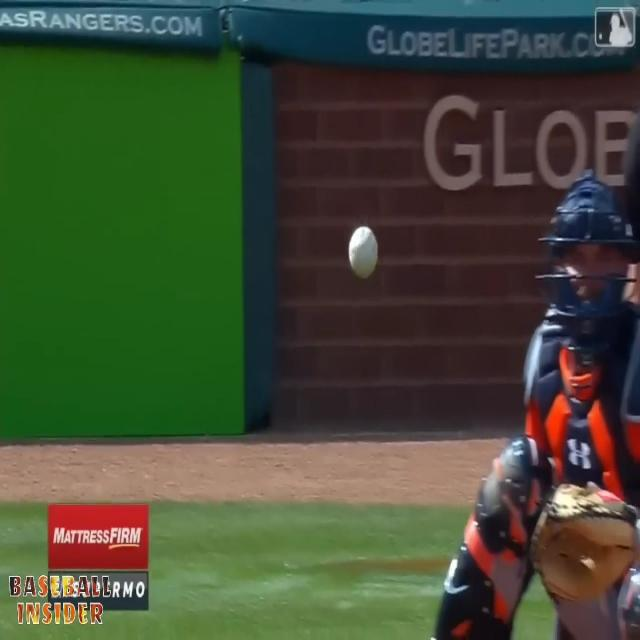baseball: (348, 223, 378, 279)
